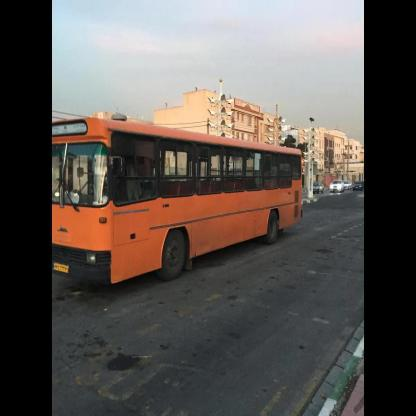Bus: (49, 104, 306, 286)
Car: (347, 178, 370, 192), (327, 180, 346, 196)
